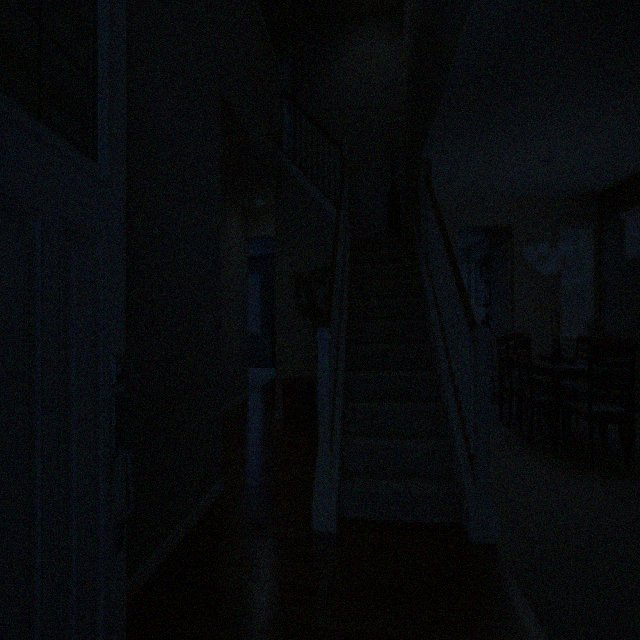stair: (340, 238, 462, 522)
